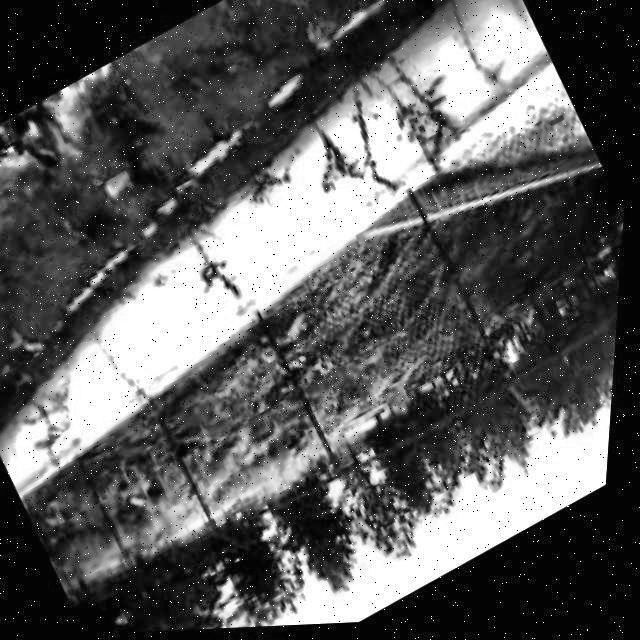Fire: (0, 92, 94, 211)
